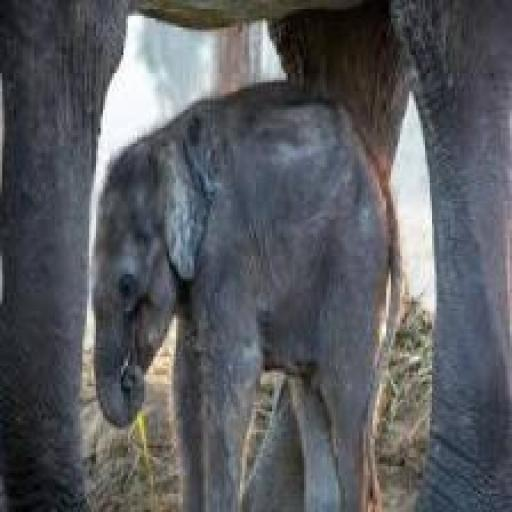Elephant: (91, 84, 409, 512)
